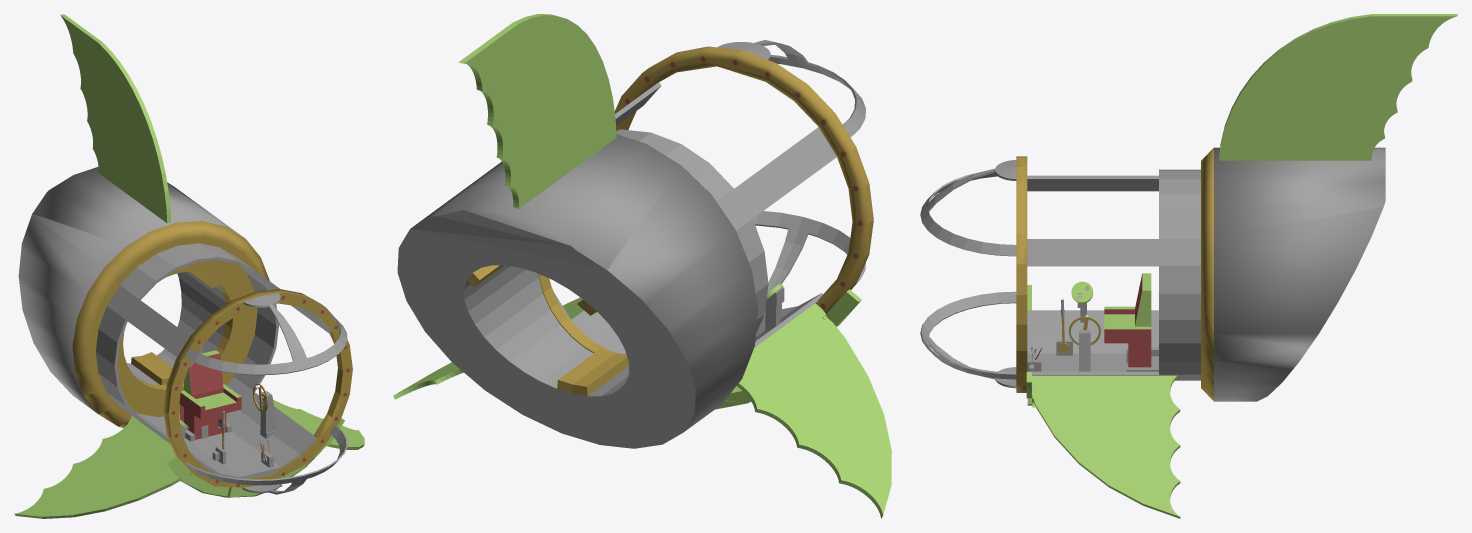
Rendered from SubBlister.fbx.
The picture shows the model from 3 angles, left to right: view 1: azimuth 30°, elevation 25°; view 2: azimuth 150°, elevation 25°; view 3: azimuth 270°, elevation 25°; orthographic projection. The views are drawn at different scales.
Visible parts, largest first — view 1: Body, Instruments; view 2: Body, Instruments; view 3: Body, Instruments.
Boxes of the visible parts, left/top/right/bottom form: Body: left=14, top=14, right=364, bottom=518; Instruments: left=179, top=350, right=277, bottom=467; Body: left=393, top=14, right=891, bottom=518; Instruments: left=765, top=283, right=784, bottom=331; Body: left=920, top=14, right=1457, bottom=518; Instruments: left=1027, top=273, right=1151, bottom=371.
Bounding box in the file's own units: 376 × 386 × 457.
